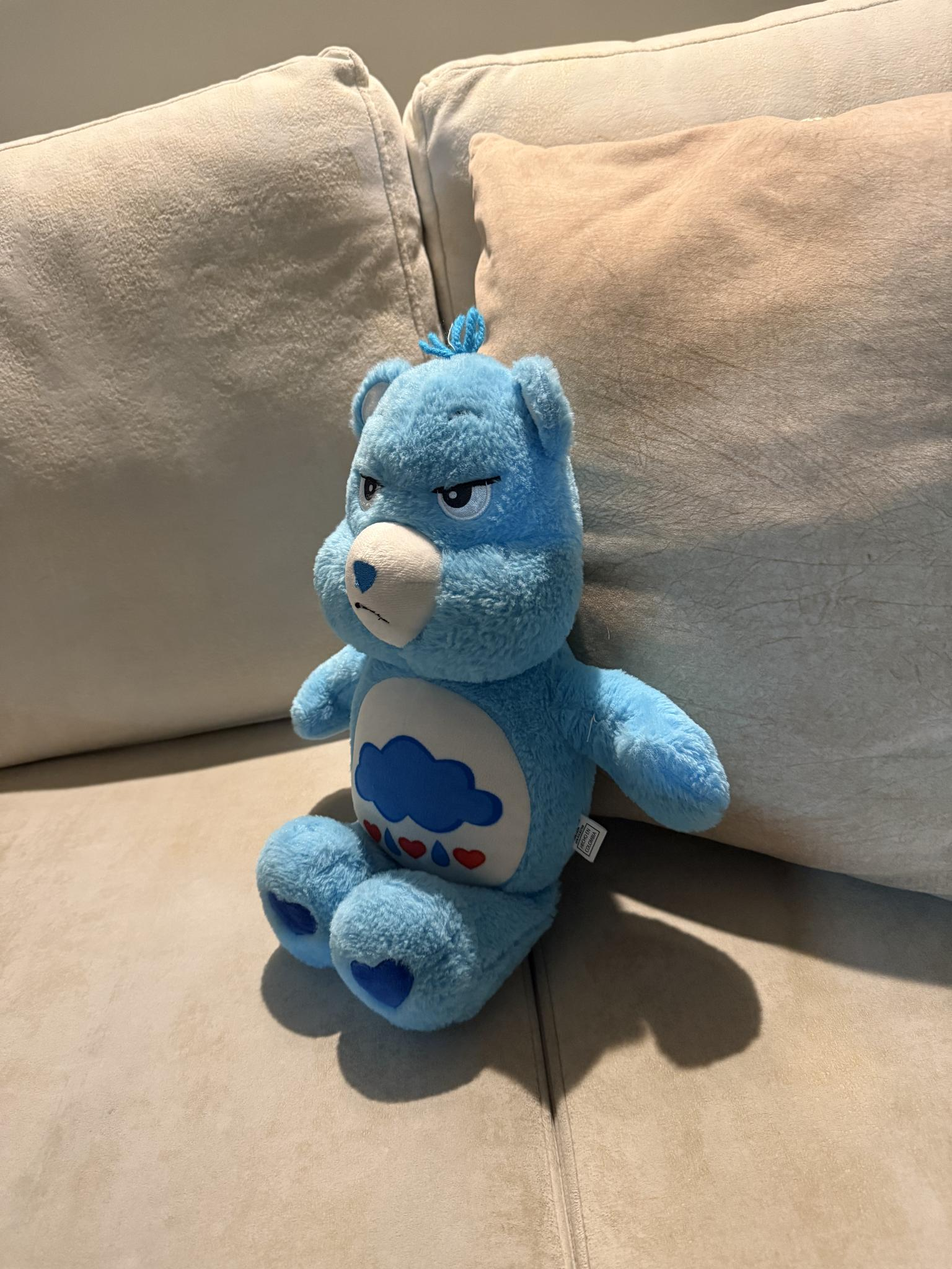peluche_Juan Jose: (249, 313, 727, 1042)
